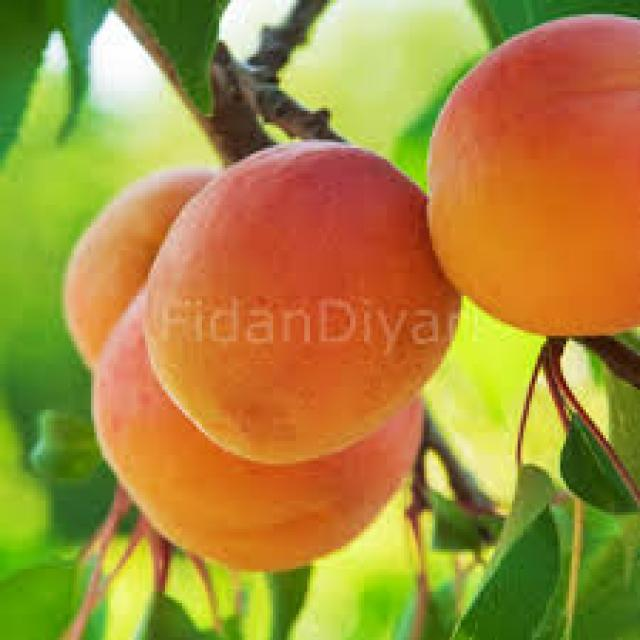kayisi: (169, 150, 458, 446)
